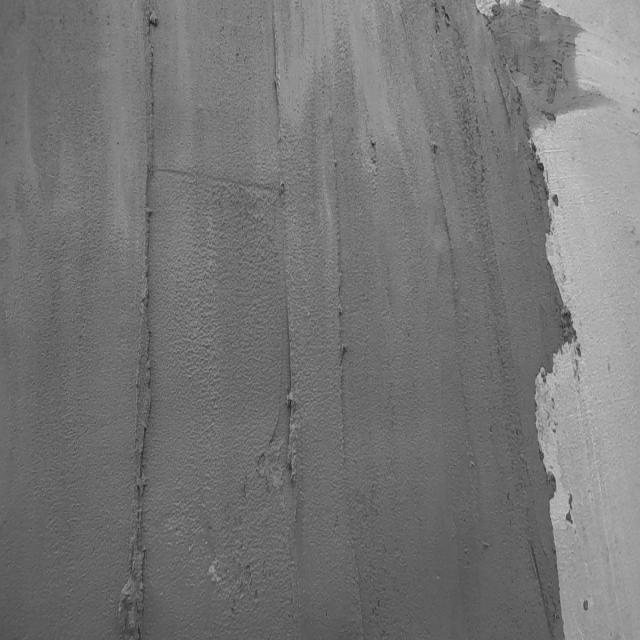trowels marks: (120, 2, 162, 640), (328, 144, 358, 640), (272, 10, 298, 509), (232, 562, 259, 612)
